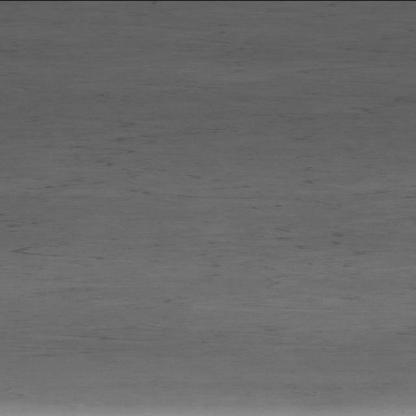silk_spot: (32, 99, 368, 272)
